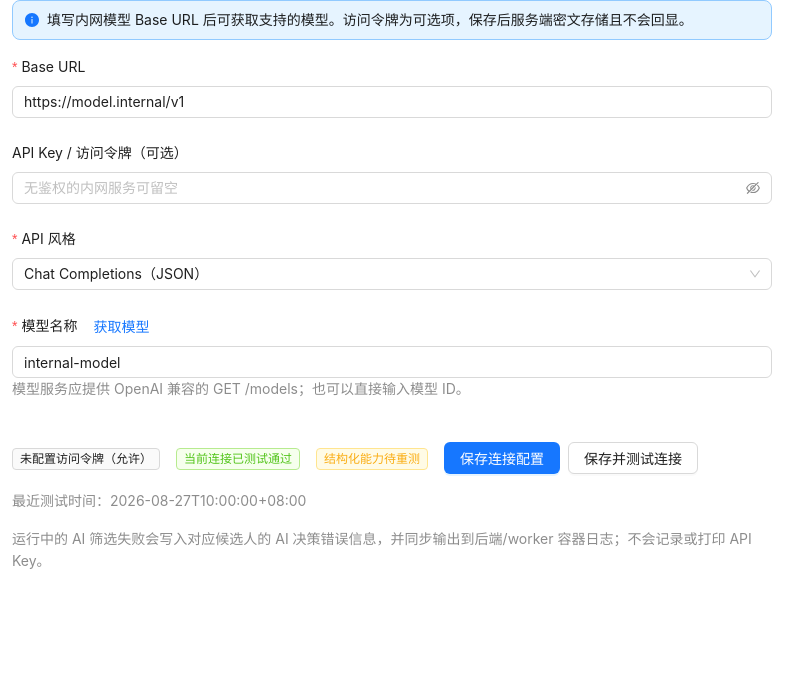
Test: AIConnectionTab › shows legacy capability and refreshes it after a real schema test
expect the text "结构化能力待重测" is shown: met, box [316, 448, 428, 470]
Click the button "保存并测试连接" at (633, 458), box [568, 442, 698, 474]
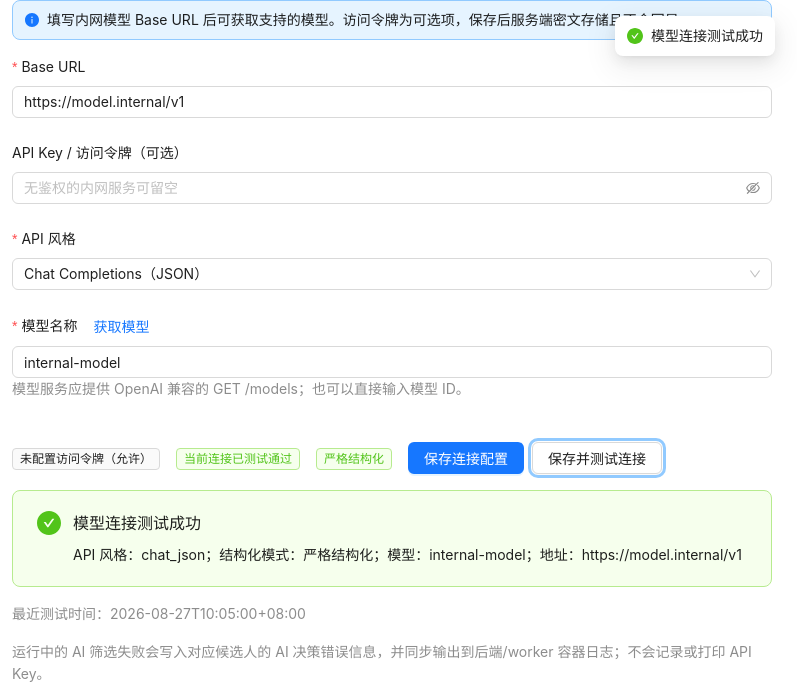
expect the text "严格结构化" is shown: met, box [316, 448, 392, 470]
expect the text "结构化模式：严格结构化" is shown: met, box [73, 546, 742, 563]
